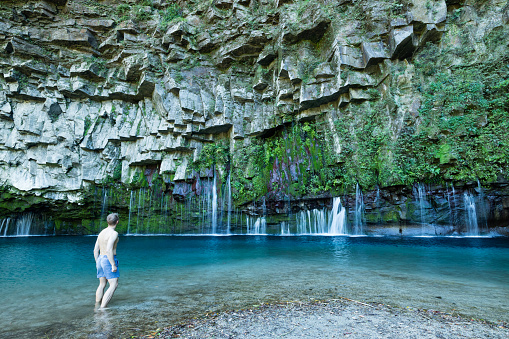em pe: (86, 208, 128, 315)
